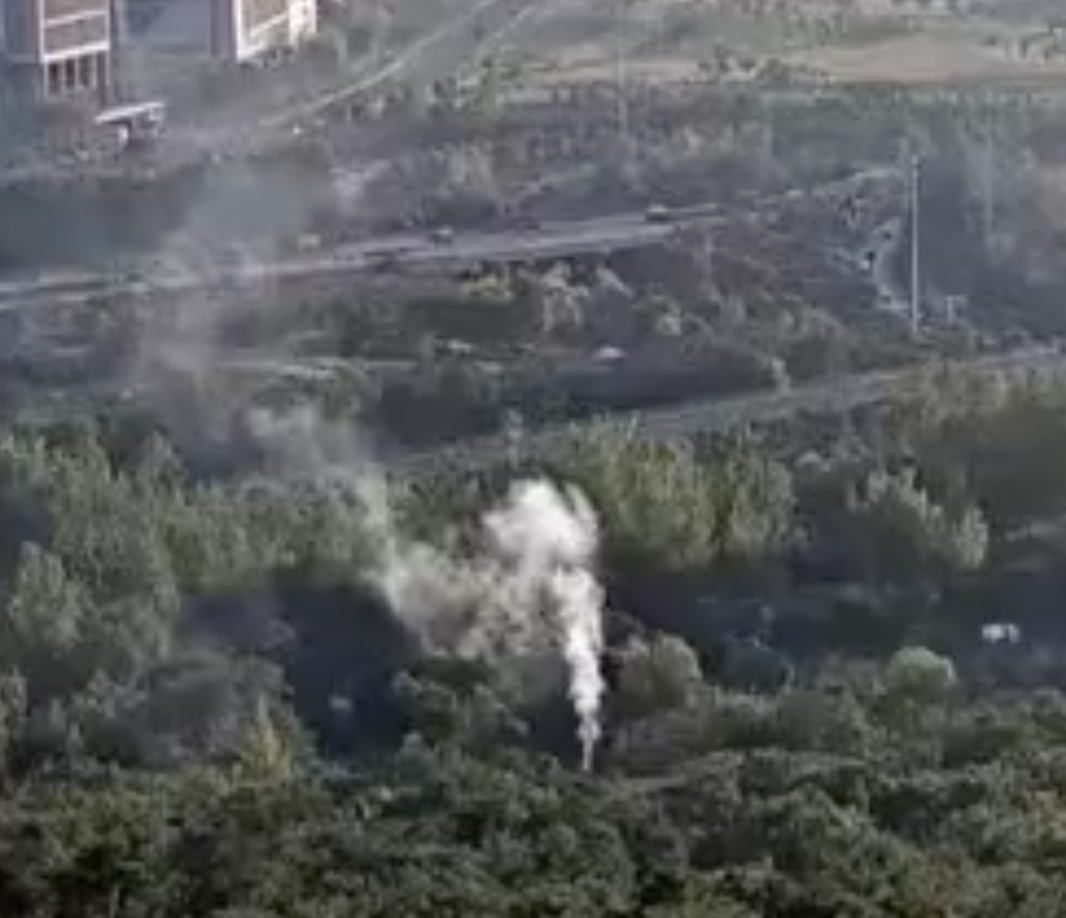smoke: (495, 478, 606, 770)
